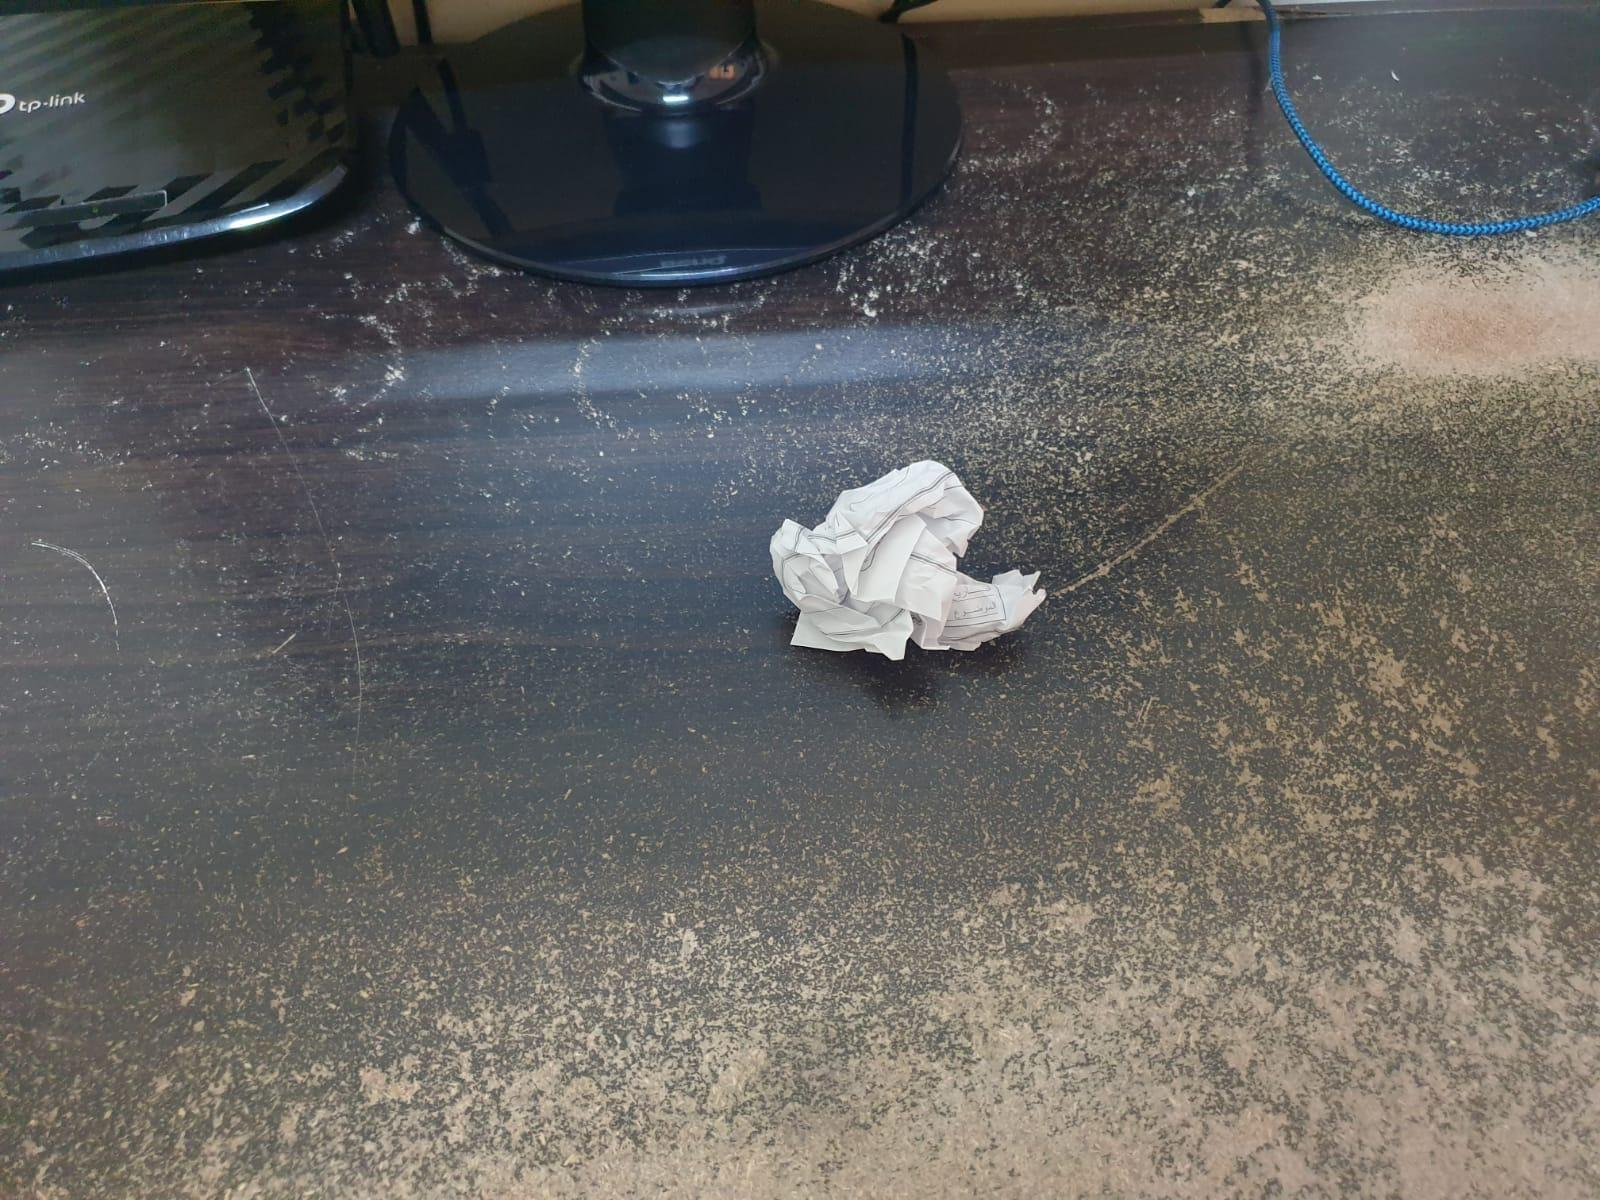Paper: (776, 451, 1061, 676)
